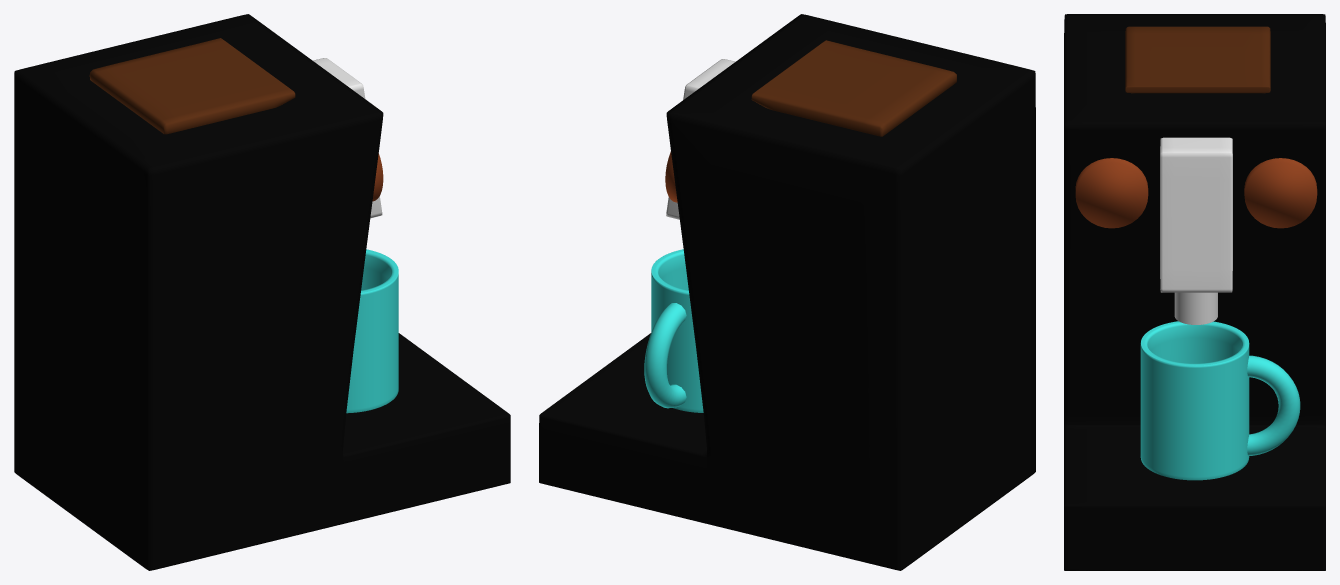
Rendered from Kaffeemaschiene.fbx.
3 views of the same model, side by side, from view 1: azimuth 30°, elevation 25°; view 2: azimuth 150°, elevation 25°; view 3: azimuth 270°, elevation 25° (orthographic). The views are drawn at different scales.
Visible parts, largest first — view 1: Cube, Cube.003, Cylinder.003, Cube.001; view 2: Cube, Cube.003, Cylinder.003, Torus.001, Cube.001; view 3: Cube, Cylinder.003, Cube.001, Cube.003, Cylinder.001, Cylinder, Torus.001, Cylinder.002.
Boxes of the visible parts, left/top/right/bottom form: Cube: left=14, top=14, right=510, bottom=570; Cube.003: left=89, top=38, right=295, bottom=134; Cylinder.003: left=346, top=249, right=398, bottom=413; Cube.001: left=313, top=58, right=382, bottom=218; Cube: left=539, top=14, right=1035, bottom=570; Cube.003: left=751, top=40, right=956, bottom=136; Cylinder.003: left=651, top=249, right=703, bottom=412; Torus.001: left=644, top=303, right=686, bottom=408; Cube.001: left=666, top=59, right=735, bottom=219; Cube: left=1064, top=14, right=1325, bottom=570; Cylinder.003: left=1140, top=321, right=1249, bottom=480; Cube.001: left=1160, top=137, right=1232, bottom=292; Cube.003: left=1125, top=26, right=1270, bottom=93; Cylinder.001: left=1244, top=158, right=1317, bottom=228; Cylinder: left=1075, top=158, right=1148, bottom=228; Torus.001: left=1247, top=355, right=1300, bottom=455; Cylinder.002: left=1174, top=292, right=1217, bottom=324.
Bounding box in the file's own units: 0.2773 × 0.3017 × 0.18.
